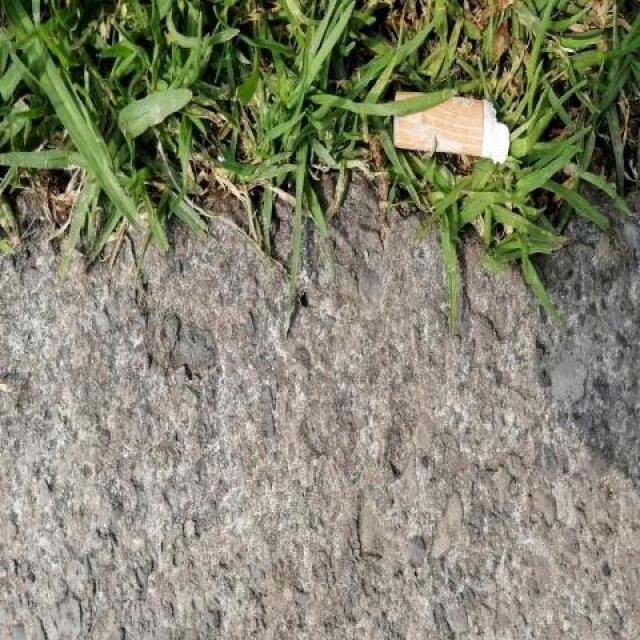non-organic waste: (388, 84, 513, 168)
